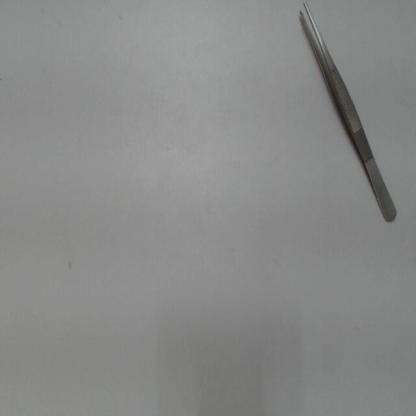Gillies Toothed Dissector: (294, 1, 405, 237)
